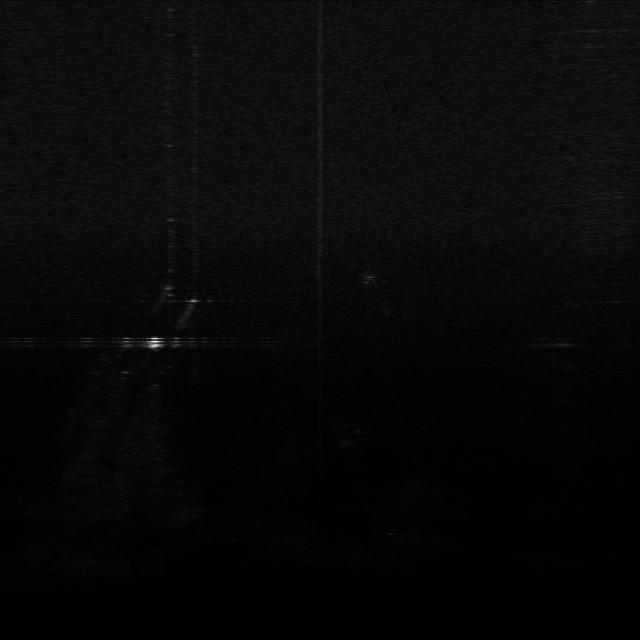rov: (142, 335, 163, 352)
